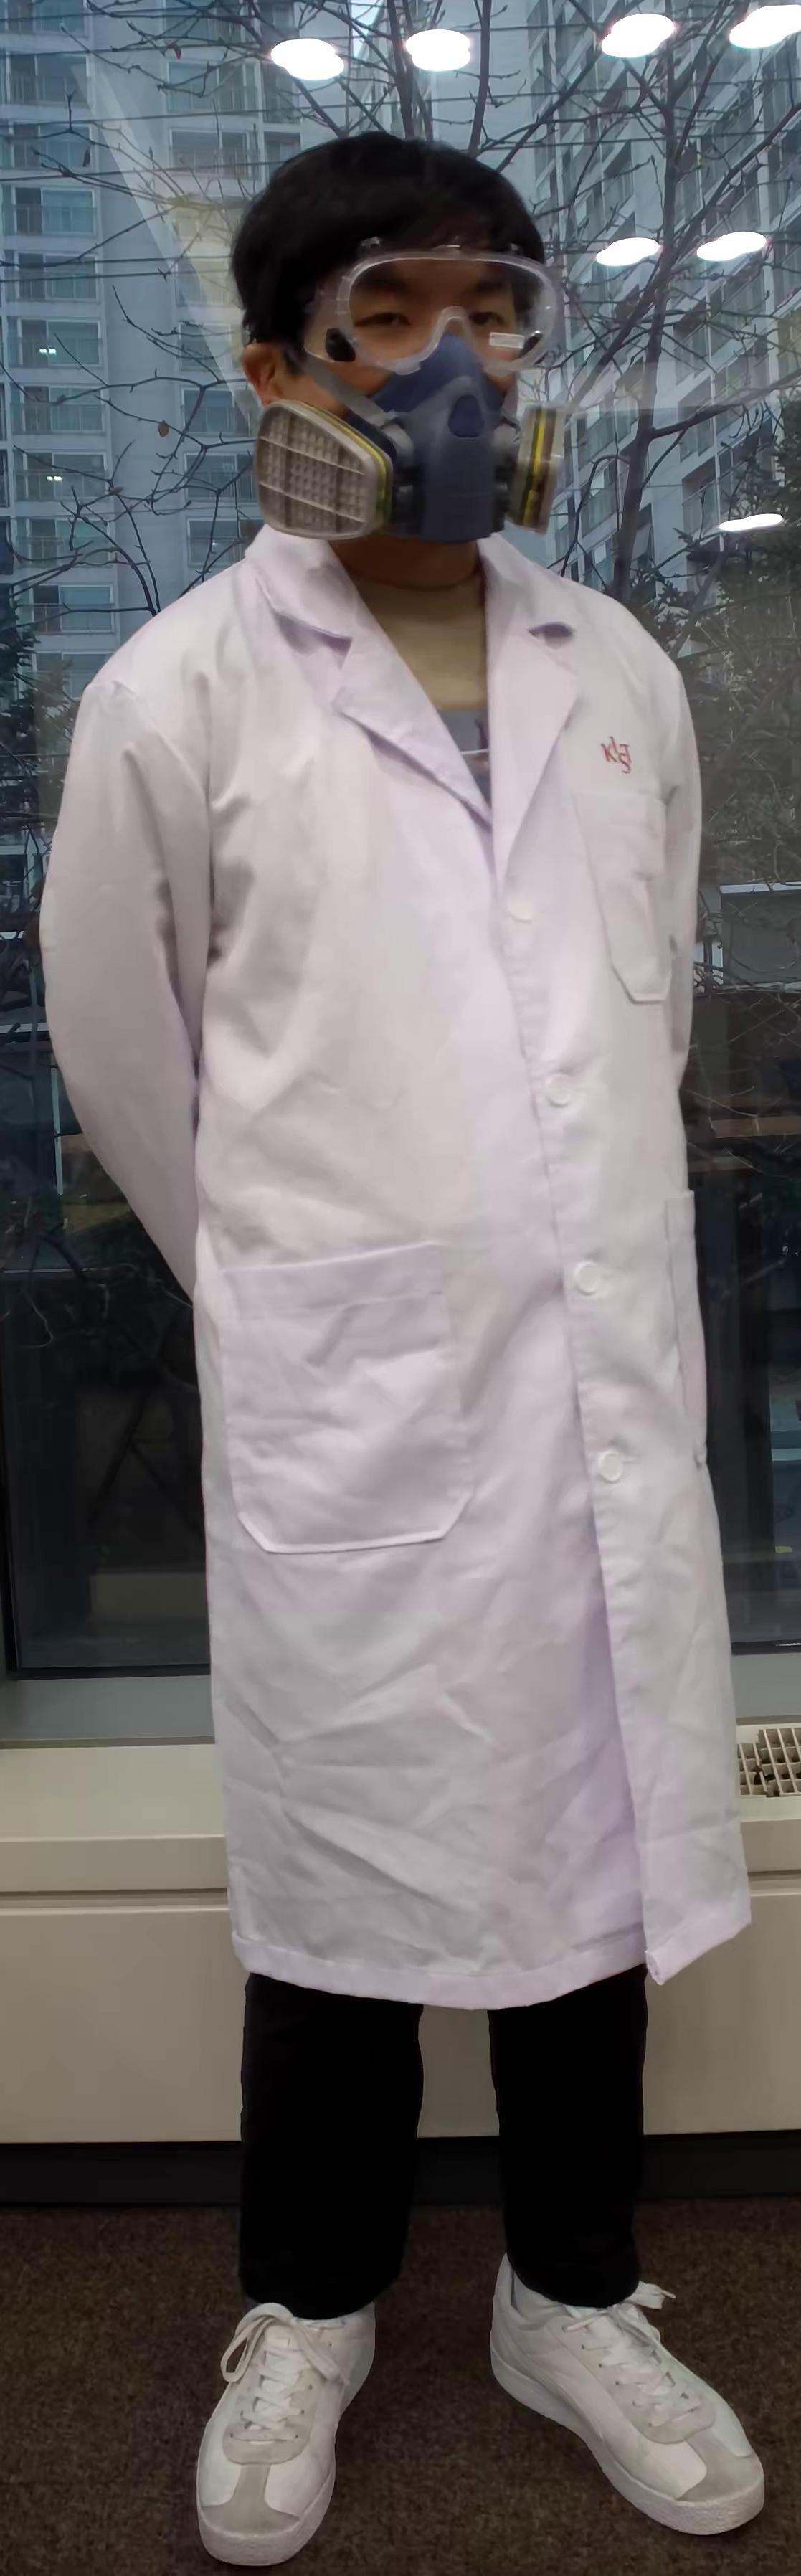lab_coat: (0, 582, 778, 1998)
